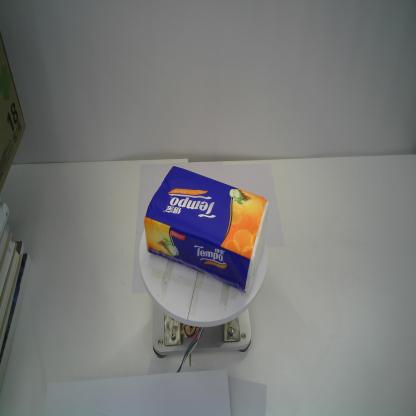Tissue: (144, 166, 270, 296)
